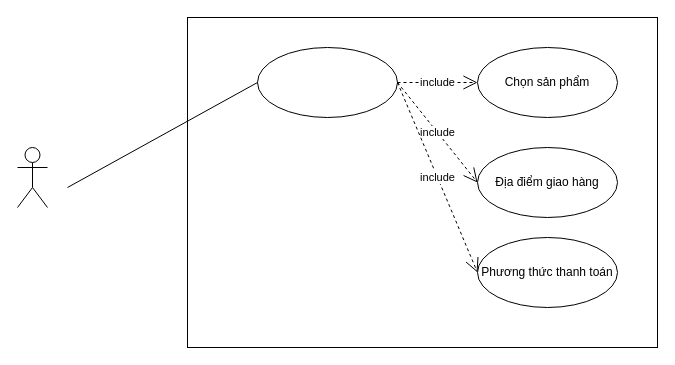
This 675x365 diagram has some shape labels left out. Each missing label, with the centre of its shape:
"Actor" belongs at (x=32, y=177).
"Mua hàng" belongs at (x=327, y=82).
